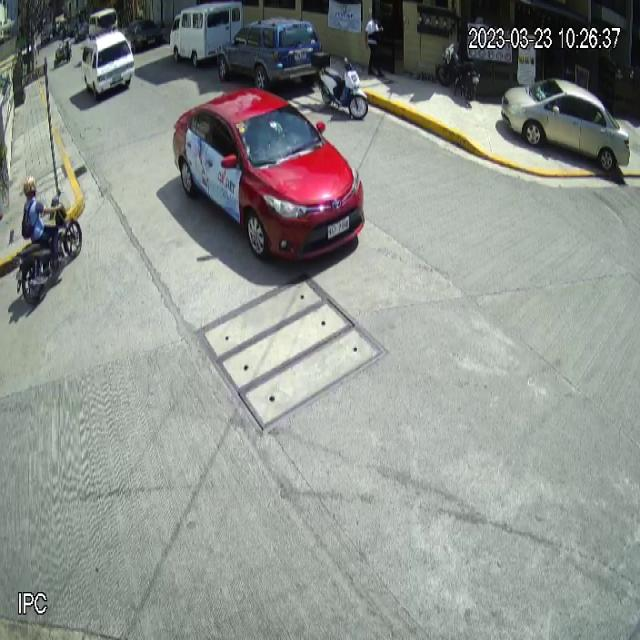Car: (172, 88, 365, 263), (501, 76, 631, 171), (219, 15, 325, 94)
Motorcycle: (15, 188, 84, 303), (312, 48, 369, 120)
Van: (170, 1, 245, 67)
